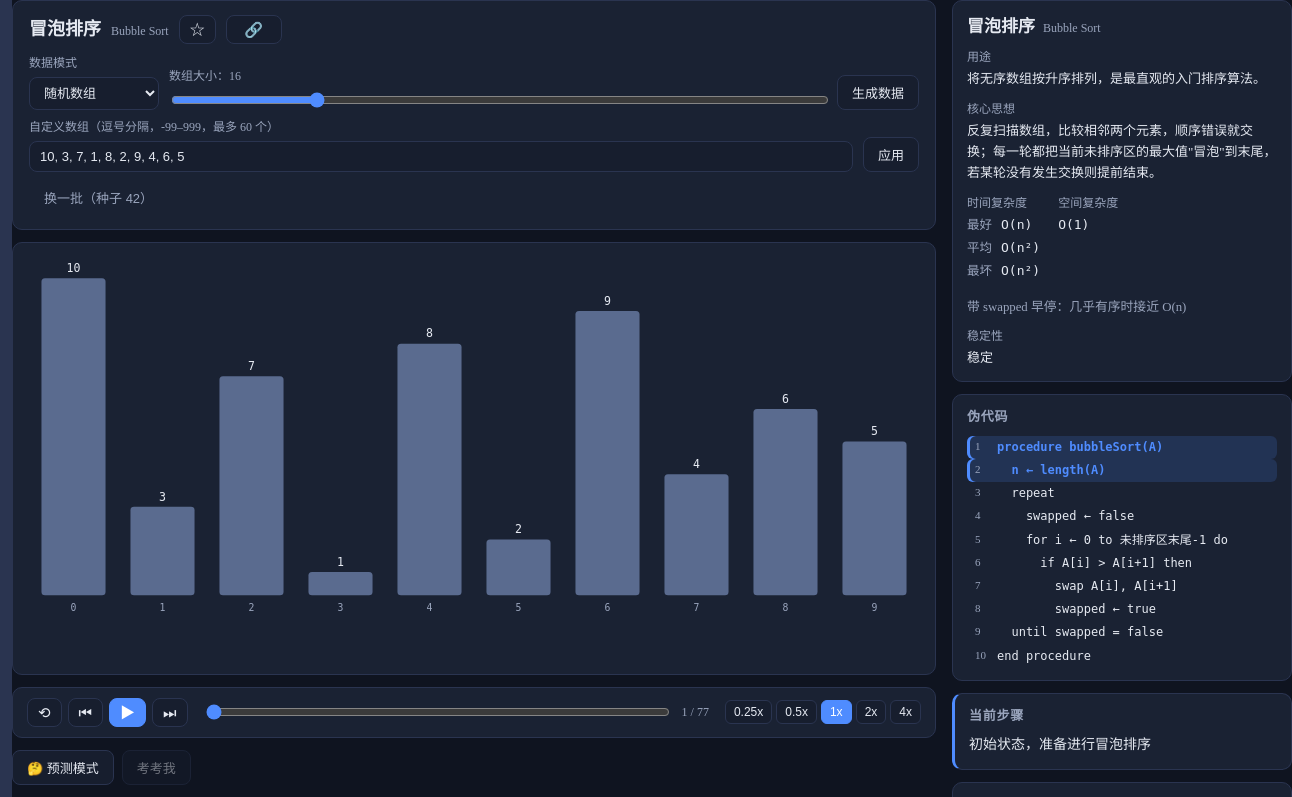
Test case: AlgorithmPage › 自定义非法数组显示错误且不崩溃
Replace the text in the field labelled "自定义数组" with "1, 2, abc" at point(441, 157), box [29,141,853,172]
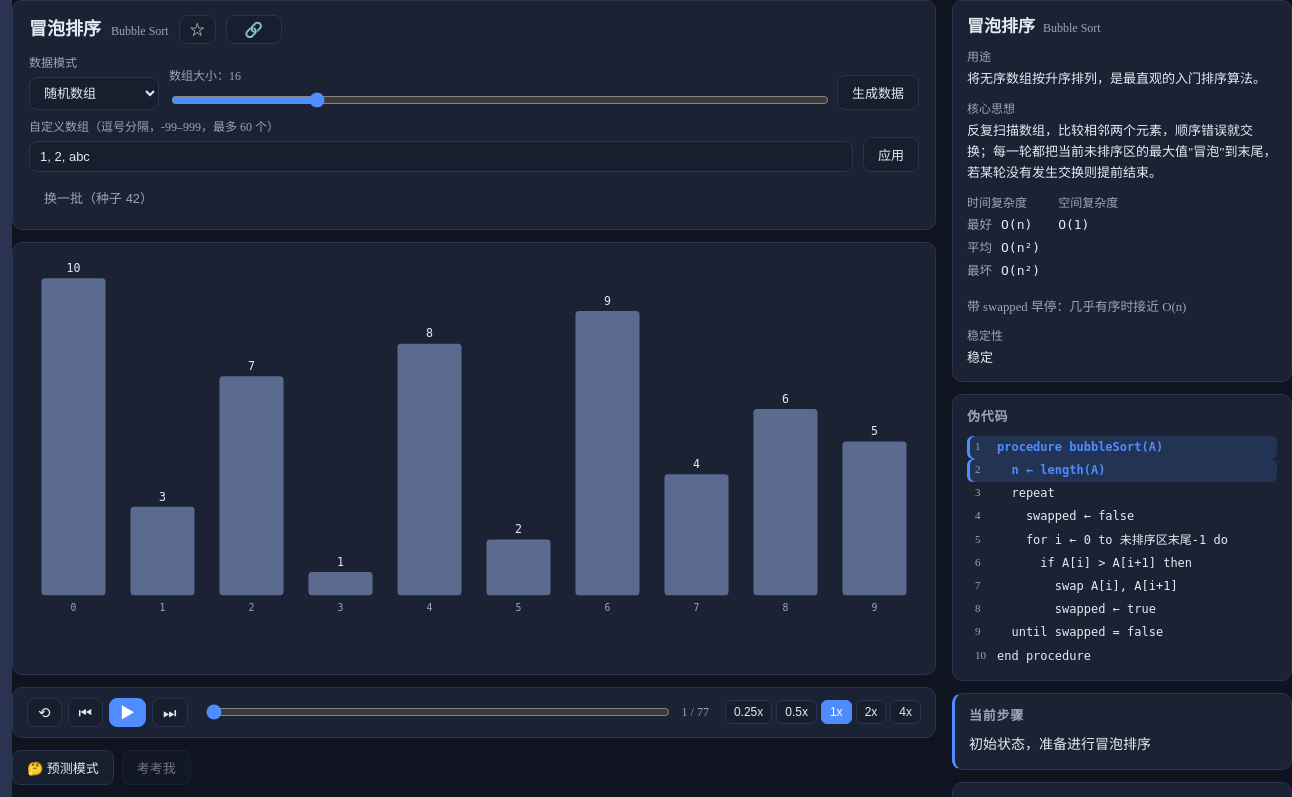
Click the button "应用" at point(891, 155), box [863,137,919,172]
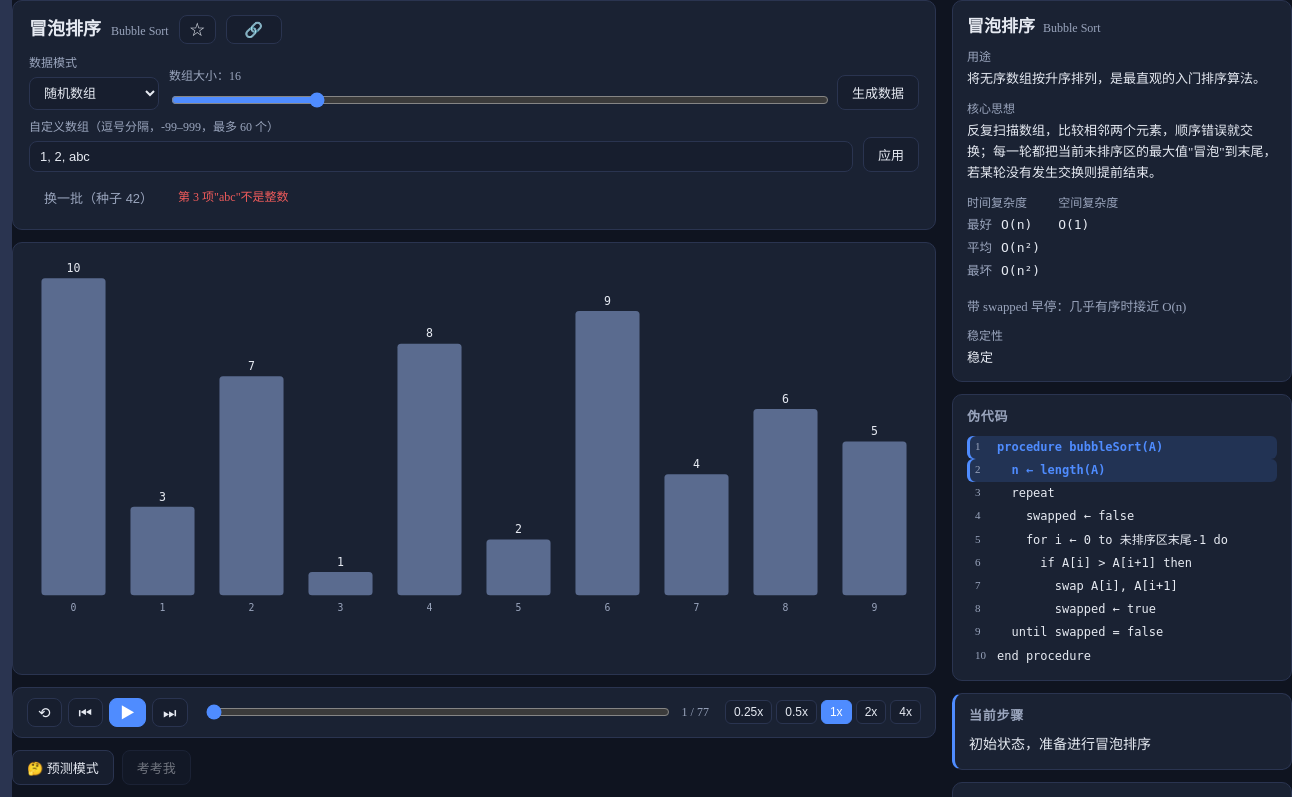
Check: the text "第 3 项\"abc\"不是整数" is shown, box [178,188,289,208]
